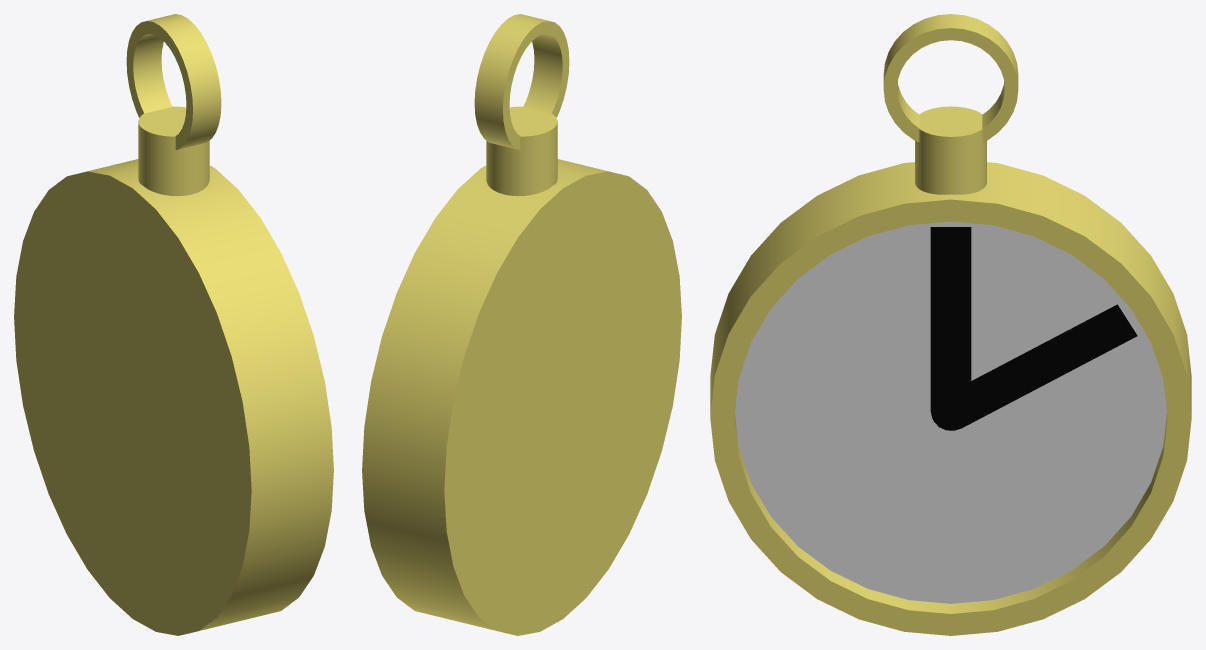
Rendered from Stopwatch.fbx.
The picture shows the model from 3 angles, left to right: view 1: azimuth 30°, elevation 25°; view 2: azimuth 150°, elevation 25°; view 3: azimuth 270°, elevation 25°; orthographic projection.
Visible parts, largest first — view 1: Circle; view 2: Circle; view 3: Circle.
Part boxes in pixels (<box>): Circle: <box>14,14,333,635</box>; Circle: <box>362,14,681,635</box>; Circle: <box>710,14,1191,635</box>.
Size of the model in its own units: 40 by 273 by 200.
